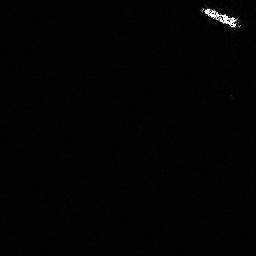ship: (196, 3, 245, 31)
